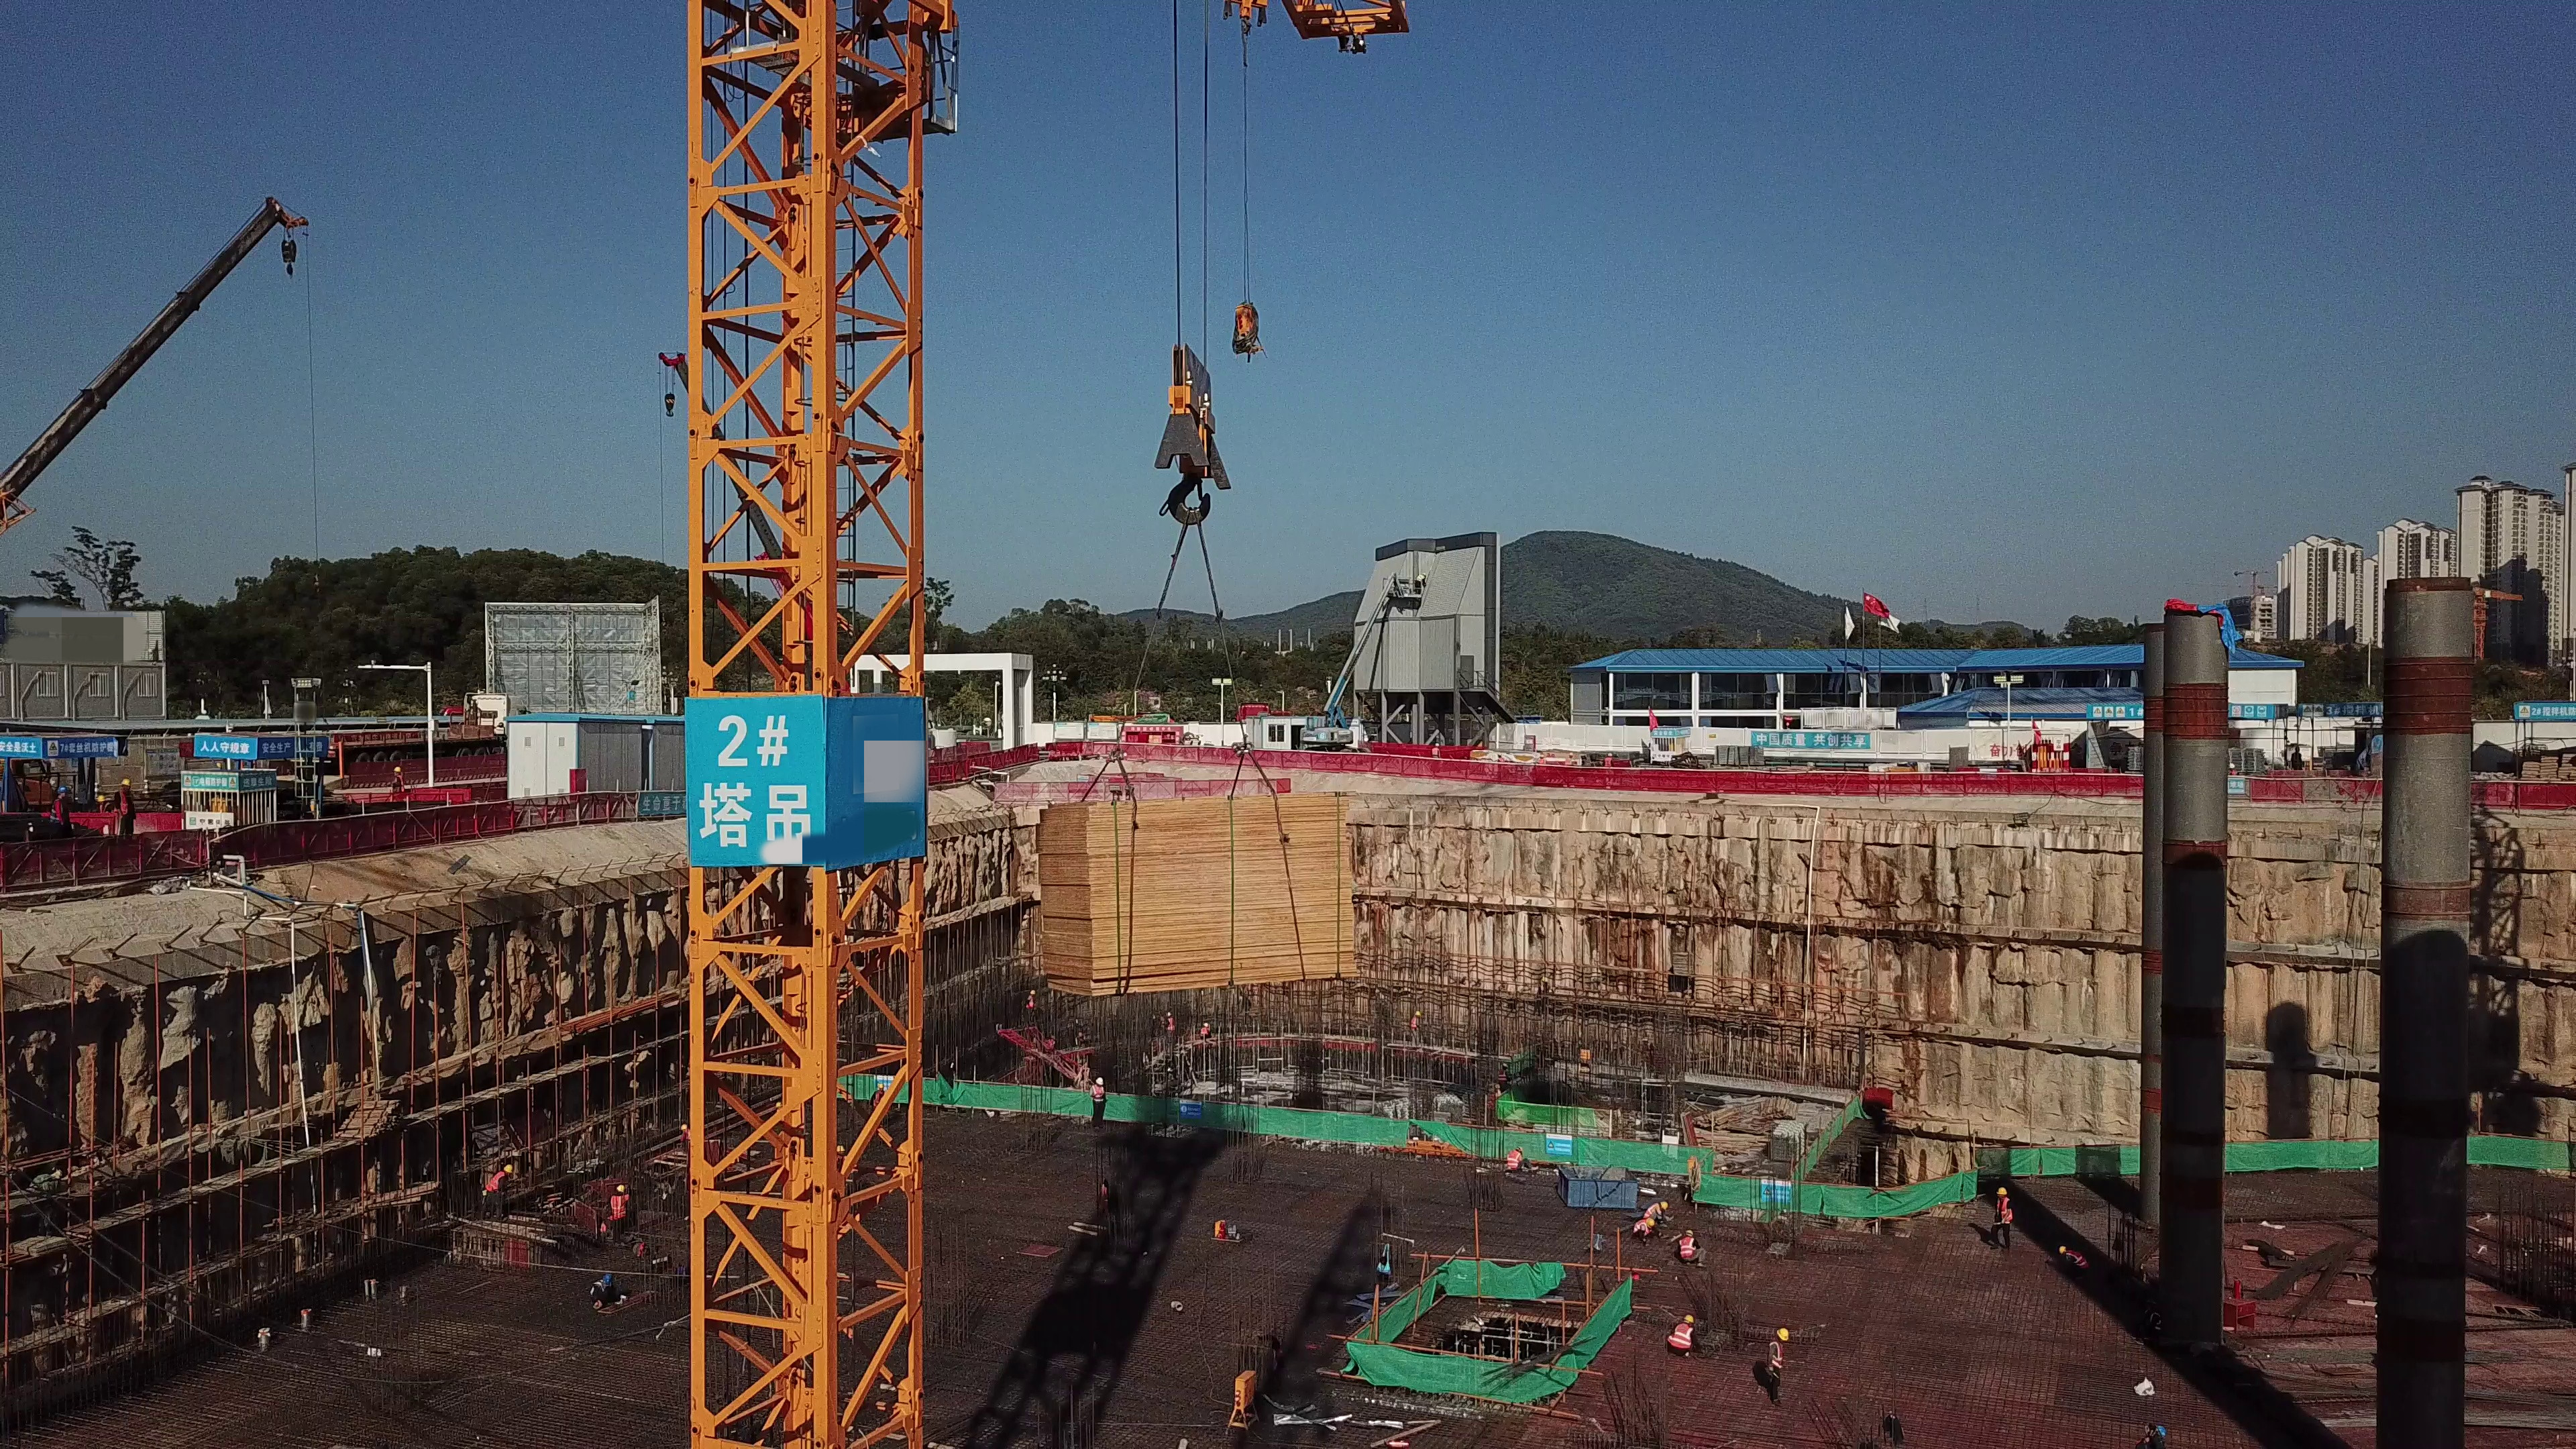board: (1030, 786, 1379, 992)
brick: (1713, 740, 1768, 769)
ebox: (1221, 1364, 1266, 1442)
fence: (1670, 761, 2084, 796), (251, 814, 577, 847)
helmet: (1776, 1327, 1791, 1340), (2157, 1426, 2169, 1438), (502, 1165, 517, 1174), (1682, 1313, 1697, 1324), (617, 1183, 627, 1193), (602, 1273, 616, 1283), (1094, 1076, 1107, 1085), (1660, 1199, 1670, 1210), (1516, 1144, 1527, 1152), (56, 786, 69, 793), (1684, 1228, 1697, 1236), (1996, 1187, 2008, 1195), (97, 796, 106, 804), (1648, 1219, 1656, 1228), (2057, 1244, 2066, 1252), (121, 780, 131, 787), (393, 766, 404, 773), (773, 1102, 784, 1109), (680, 1123, 688, 1130), (1566, 751, 1575, 757), (877, 1083, 886, 1088), (1415, 1010, 1421, 1018), (1029, 989, 1037, 995), (1203, 1021, 1210, 1026), (1166, 1012, 1171, 1017), (1608, 752, 1614, 757), (1540, 753, 1547, 758), (1435, 743, 1441, 746)
hook: (1159, 339, 1232, 533), (1220, 1, 1275, 53), (274, 244, 309, 276), (653, 394, 686, 421)
hopper: (1557, 1160, 1646, 1216)
person: (1761, 1326, 1794, 1405), (1986, 1185, 2019, 1256), (480, 1162, 515, 1224), (1664, 1311, 1706, 1364), (605, 1183, 636, 1248), (113, 775, 141, 838), (1085, 1076, 1114, 1134), (586, 1272, 625, 1313), (46, 784, 76, 834), (1676, 1228, 1711, 1269), (2053, 1242, 2090, 1279), (2129, 1424, 2178, 1449), (1504, 1146, 1544, 1173), (1631, 1218, 1669, 1246), (1405, 1004, 1424, 1045), (1644, 1200, 1676, 1219), (868, 1082, 889, 1117), (384, 765, 409, 791), (1020, 987, 1038, 1022), (1493, 1061, 1511, 1091), (1159, 1012, 1179, 1038), (2290, 743, 2306, 769), (96, 795, 115, 813), (1197, 1020, 1216, 1038), (1428, 741, 1442, 761), (1601, 749, 1615, 766), (1535, 752, 1548, 765), (1564, 752, 1576, 764), (1494, 751, 1506, 762)
scaffold: (1360, 1090, 1469, 1121), (1765, 1127, 1803, 1166)
slogan: (693, 706, 830, 854), (1755, 726, 1878, 755), (2087, 698, 2149, 727), (2518, 704, 2576, 724), (262, 737, 329, 755), (59, 735, 120, 754), (195, 737, 250, 757), (2307, 700, 2385, 714), (185, 771, 234, 790), (244, 771, 280, 794), (1, 741, 42, 757)
vest: (119, 789, 138, 819), (1672, 1324, 1694, 1350), (1768, 1342, 1785, 1369), (51, 799, 67, 824), (1998, 1198, 2013, 1223), (611, 1196, 628, 1218), (486, 1173, 504, 1192), (1506, 1150, 1520, 1173), (1681, 1239, 1697, 1258), (2069, 1251, 2088, 1267), (589, 1277, 604, 1293), (1092, 1087, 1106, 1102), (1635, 1219, 1648, 1232), (872, 1091, 883, 1107), (393, 775, 405, 788), (1645, 1203, 1658, 1216), (1024, 996, 1036, 1011), (1409, 1016, 1417, 1029), (1199, 1027, 1210, 1038), (1499, 1069, 1507, 1081), (1166, 1018, 1175, 1030), (1432, 747, 1440, 759), (1604, 757, 1613, 764), (1538, 759, 1546, 763)
wood: (1704, 1098, 1765, 1159)
